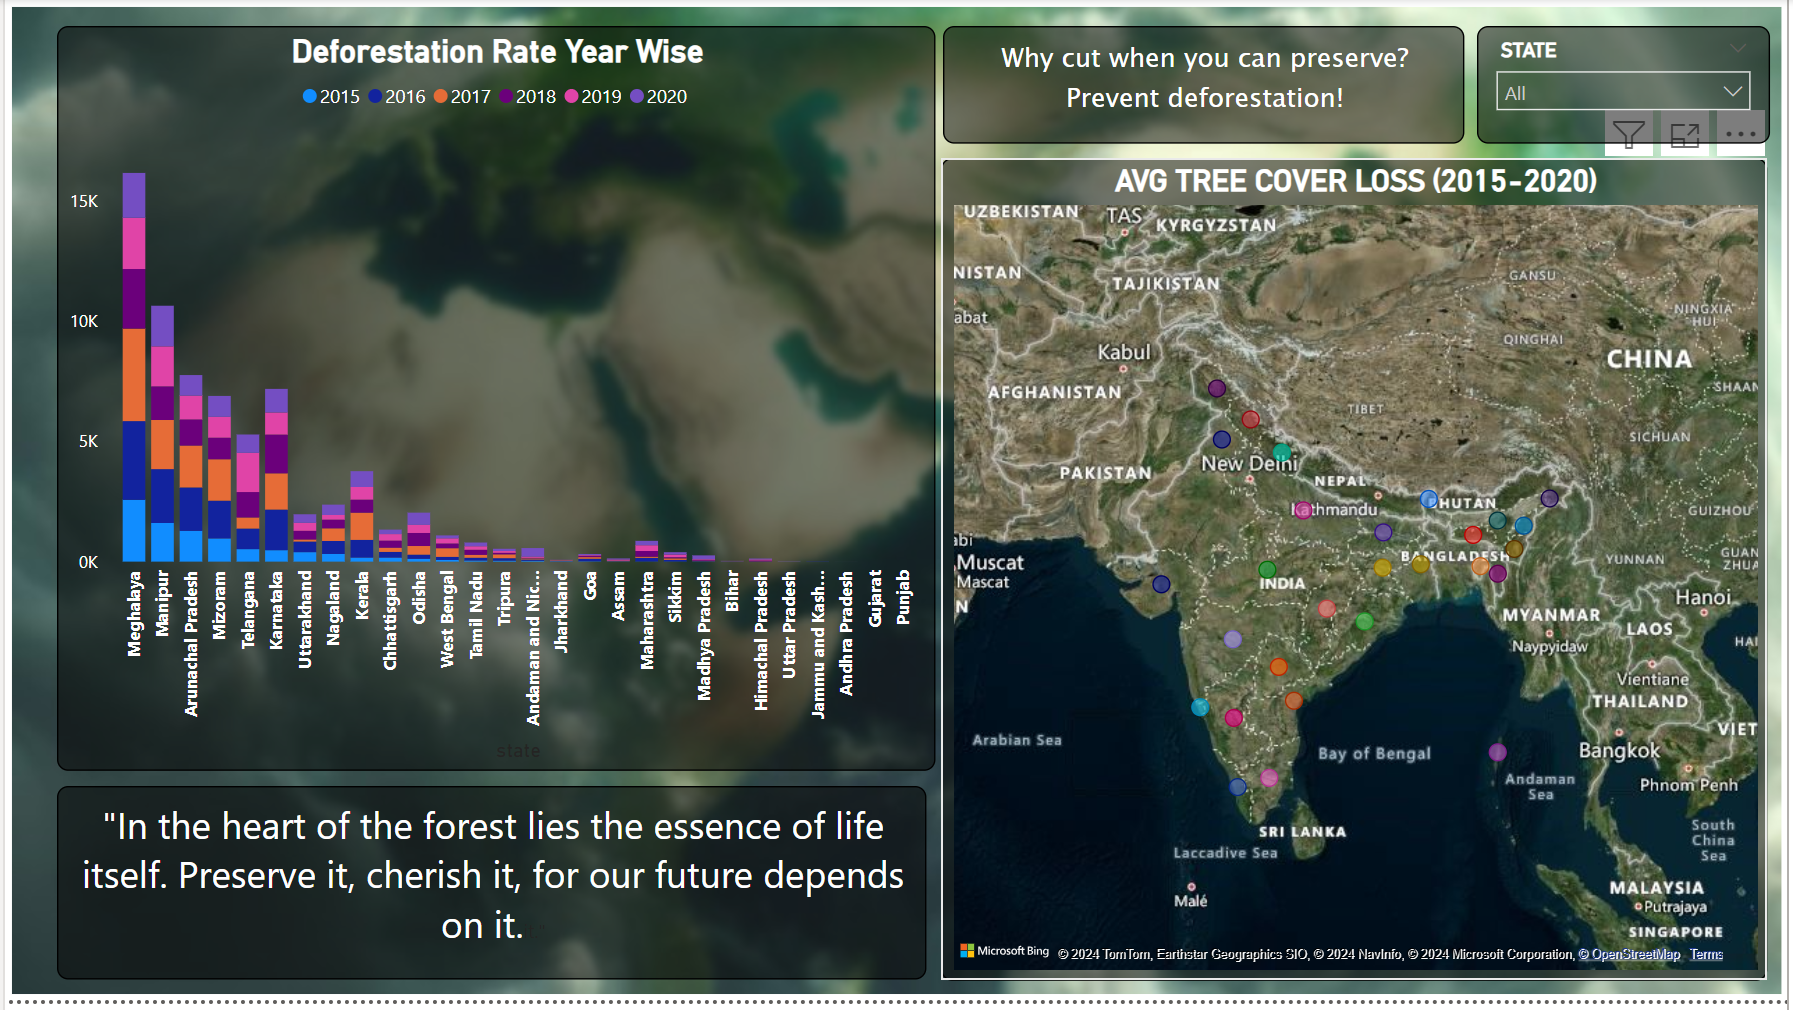

Layout of this report page (visuals, bound fields, positions):
{"tool":"powerbi","page":{"name":"Page 3","canvas":[1280,720],"ordinal":2},"visuals":[{"type":"image","box":[0,1.3,1280.8,719.2],"z":0},{"type":"textbox","box":[673.1,20.5,374.4,84.6],"z":1000},{"type":"map","title":"AVG TREE COVER LOSS (2015-2020)","fields":{"Category":["tree cover loss(2015-2020).subnational1"],"Series":["tree cover loss(2015-2020).AVG"]},"box":[672.7,114.3,593.5,590.9],"z":2000},{"type":"columnChart","title":"Deforestation Rate Year Wise","fields":{"Category":["tree cover loss(2015-2020).state"],"Y":["Sum(tree cover loss(2015-2020).tc_loss_ha_2015)","Sum(tree cover loss(2015-2020).tc_loss_ha_2016)","Sum(tree cover loss(2015-2020).tc_loss_ha_2017)","Sum(tree cover loss(2015-2020).tc_loss_ha_2018)","Sum(tree cover loss(2015-2020).tc_loss_ha_2019)","Sum(tree cover loss(2015-2020).tc_loss_ha_2020)"]},"box":[37.7,20.8,631.2,535.1],"z":3000},{"type":"slicer","fields":{"Values":["tree cover loss(2015-2020).state"]},"box":[1057.1,20.8,210.4,84.4],"z":4000},{"type":"textbox","box":[37.7,566.2,624.7,139],"z":5000}]}

Visuals, with their boxes in screenshot pixels (x1, y1, x2, y2), scaled from the page's 1280x720 canvas onto the 1793x1010 screenshot:
image: {"x1": 0, "y1": 2, "x2": 1792, "y2": 1009}
textbox: {"x1": 943, "y1": 29, "x2": 1467, "y2": 147}
"AVG TREE COVER LOSS (2015-2020)" map: {"x1": 942, "y1": 160, "x2": 1774, "y2": 989}
"Deforestation Rate Year Wise" columnChart: {"x1": 53, "y1": 29, "x2": 937, "y2": 780}
slicer - tree cover loss(2015-2020).state: {"x1": 1481, "y1": 29, "x2": 1775, "y2": 148}
textbox: {"x1": 53, "y1": 794, "x2": 928, "y2": 989}
